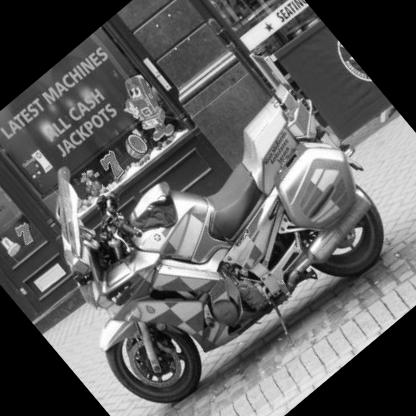moto: (1, 4, 416, 416)
